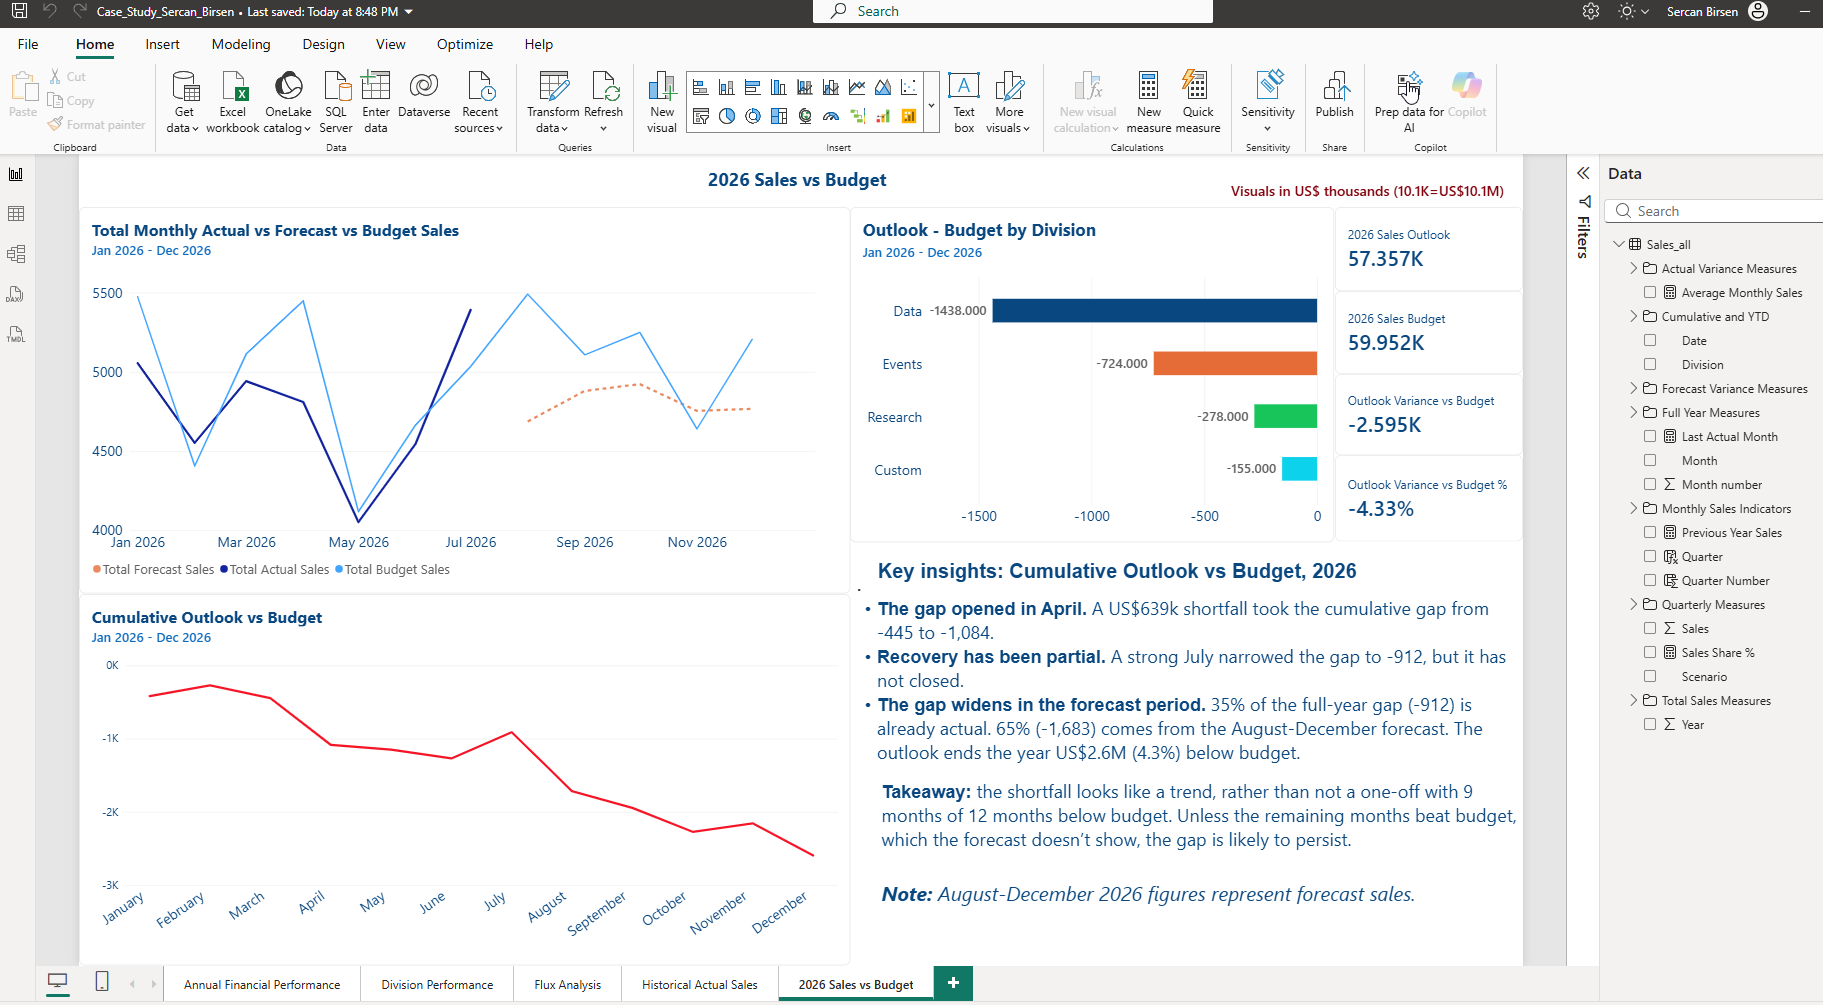

The page's visual inventory and layout, read from the dashboard file:
{"tool":"powerbi","page":{"name":"2026 Sales vs Budget","canvas":[1920,1080],"ordinal":4},"visuals":[{"type":"lineChart","title":"Total Monthly Actual vs Forecast vs Budget Sales","fields":{"Category":["Sales_all.Date"],"Y":["Sales_all.Total Forecast Sales","Sales_all.Total Actual Sales","Sales_all.Total Budget Sales"]},"box":[0,70,1025.7,514.3],"z":0},{"type":"clusteredBarChart","title":"Outlook - Budget by Division","fields":{"Category":["Sales_all.Division"],"Y":["Sales_all.Full Year Outlook Variance vs Budget"]},"box":[1025.7,70,644.3,445.7],"z":1000},{"type":"lineChart","title":"Cumulative Outlook vs Budget","fields":{"Category":["Sales_all.Month"],"Y":["Sales_all.Cumulative Variance"]},"box":[0,585.7,1025.7,494.3],"z":2000},{"type":"textbox","box":[1025.7,540,894.3,500],"z":3000},{"type":"textbox","box":[1532.9,35.7,371.4,34.3],"z":4000},{"type":"cardVisual","fields":{"Data":["Sales_all.Full Year Outlook Variance vs Budget %"]},"box":[1670,400,250,115.7],"z":5000},{"type":"cardVisual","fields":{"Data":["Sales_all.Full Year Outlook"]},"box":[1670,70,250,112.9],"z":6000},{"type":"cardVisual","fields":{"Data":["Sales_all.Total Budget Sales"]},"box":[1670,182.9,250,110],"z":7000},{"type":"cardVisual","fields":{"Data":["Sales_all.Full Year Outlook Variance vs Budget"]},"box":[1670,292.9,250,108.6],"z":8000},{"type":"textbox","box":[837.1,15.7,245.7,38.6],"z":10000}]}

Visuals, with their boxes on the page's 1920x1080 design canvas (x1, y1, x2, y2). These are canvas units, not pixel positions in the 1823x1005 screenshot, which may show the page scaled, cropped or inside an application window:
"Total Monthly Actual vs Forecast vs Budget Sales" lineChart: Rect(0, 70, 1026, 584)
"Outlook - Budget by Division" clusteredBarChart: Rect(1026, 70, 1670, 516)
"Cumulative Outlook vs Budget" lineChart: Rect(0, 586, 1026, 1080)
textbox: Rect(1026, 540, 1920, 1040)
textbox: Rect(1533, 36, 1904, 70)
cardVisual - Sales_all.Full Year Outlook Variance vs Budget %: Rect(1670, 400, 1920, 516)
cardVisual - Sales_all.Full Year Outlook: Rect(1670, 70, 1920, 183)
cardVisual - Sales_all.Total Budget Sales: Rect(1670, 183, 1920, 293)
cardVisual - Sales_all.Full Year Outlook Variance vs Budget: Rect(1670, 293, 1920, 402)
textbox: Rect(837, 16, 1083, 54)
